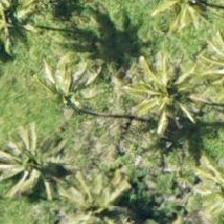coconut_tree: (119, 50, 209, 140), (21, 51, 111, 141), (0, 120, 77, 210), (50, 162, 140, 223), (0, 0, 50, 62)
